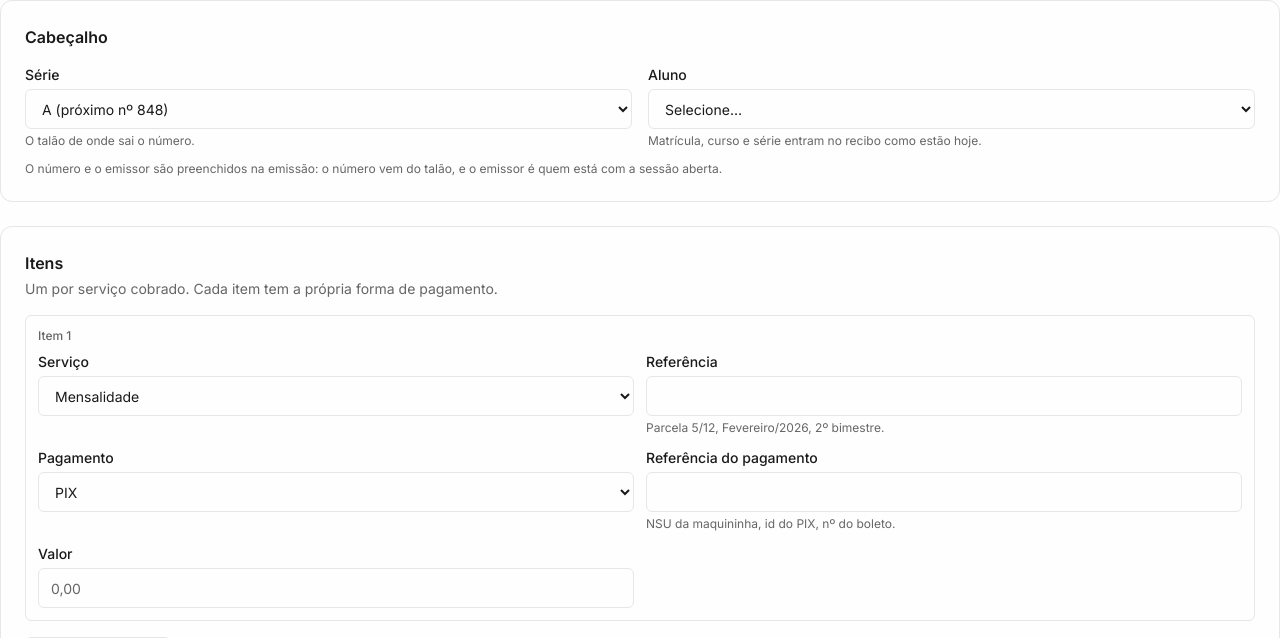
Test: formulário de recibo › desligar o item da parcela não apaga o item
Select "Alice Vianna — 26031" in the dropdown labelled "Aluno": (952, 109) [648,89,1255,129]
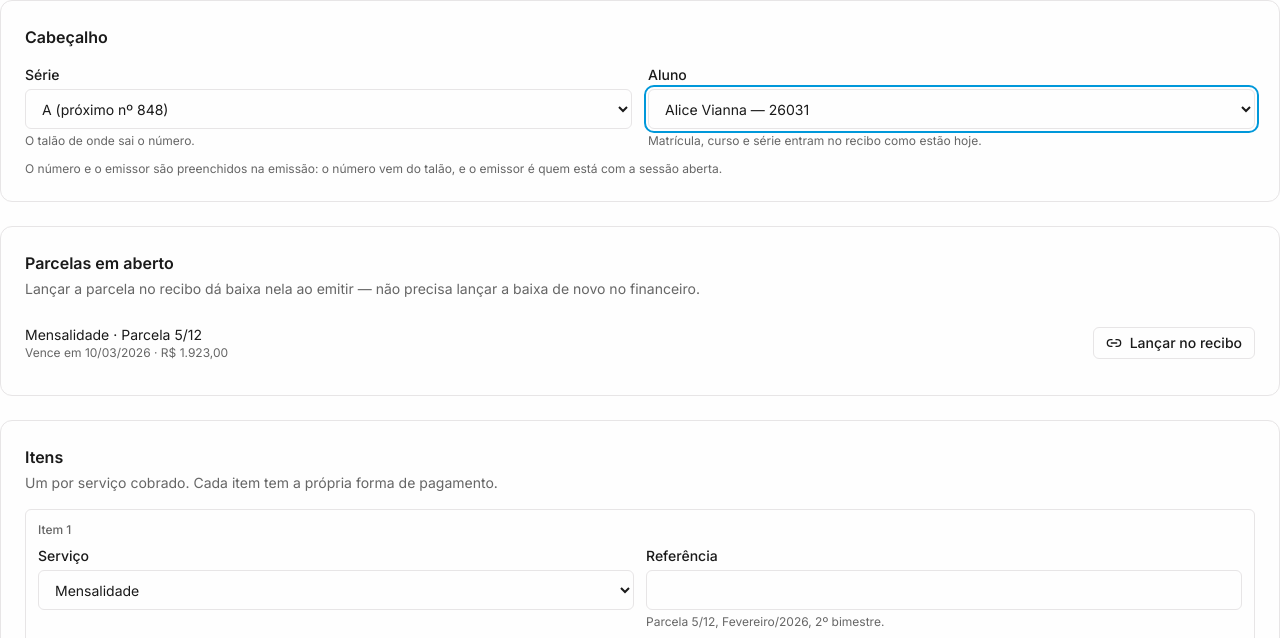
Click the button "Lançar no recibo": (1174, 343) [1093,327,1255,359]
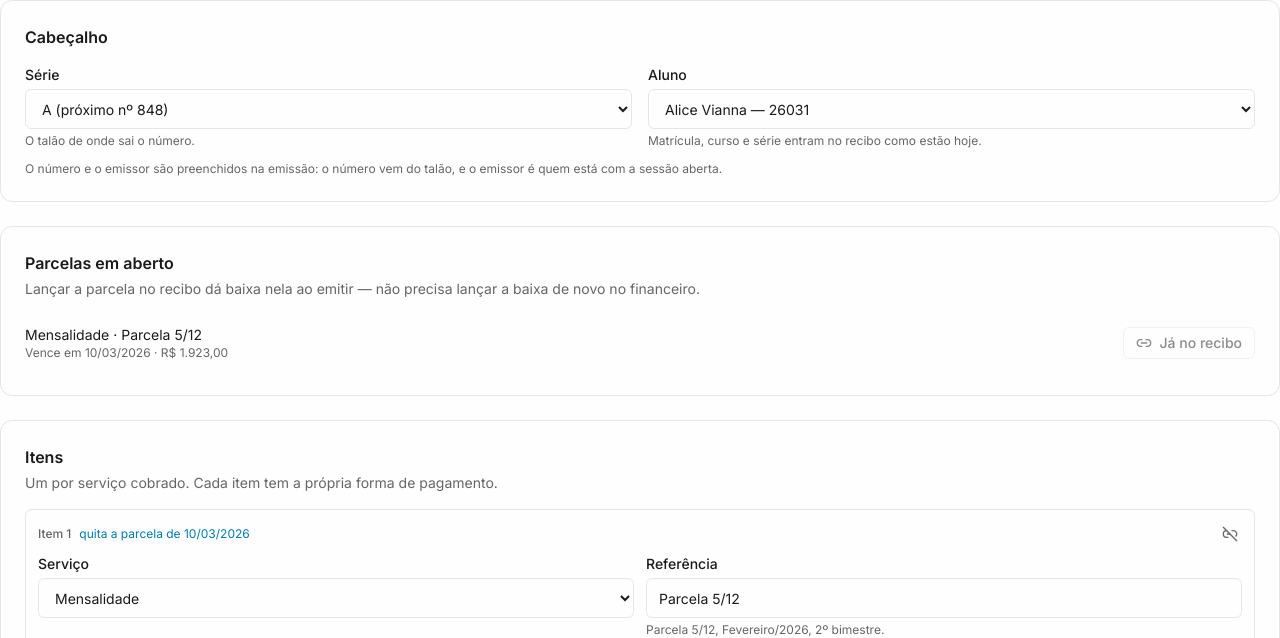
Click the button named "desligar o item 1 da parcela": (1230, 534) [1218,522,1242,546]
(page scrolled)
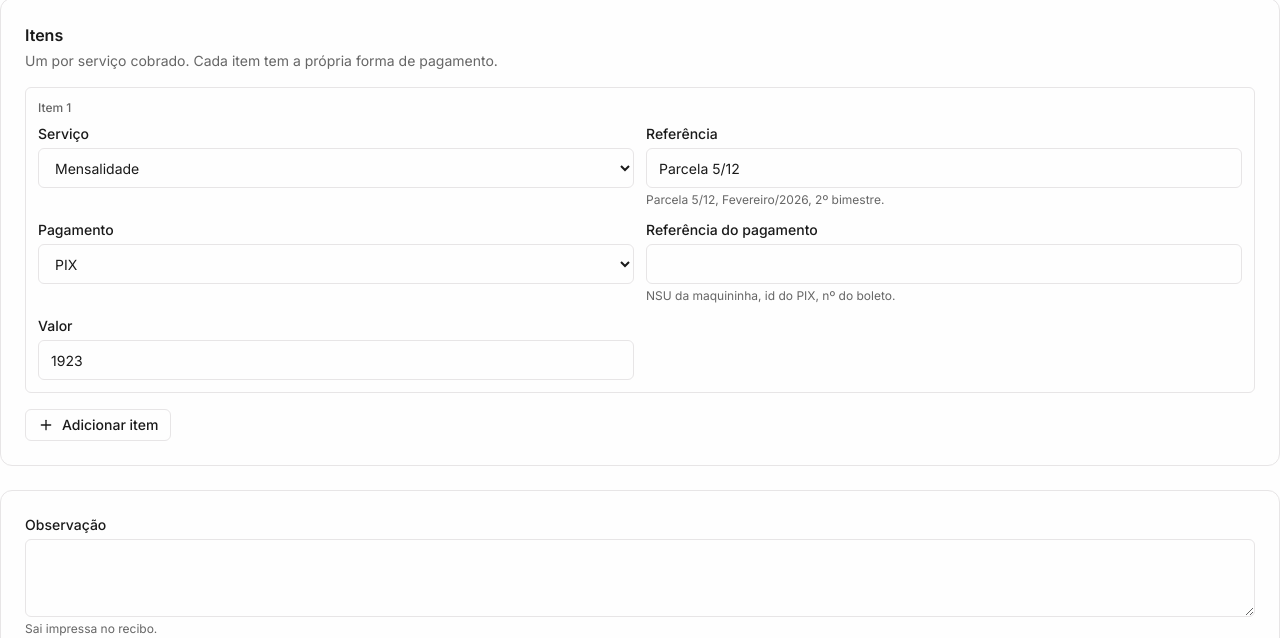
Expected: the field labelled "Valor" holds "1923", [38,340,634,380]
Expected: the text "quita a parcela" is gone
